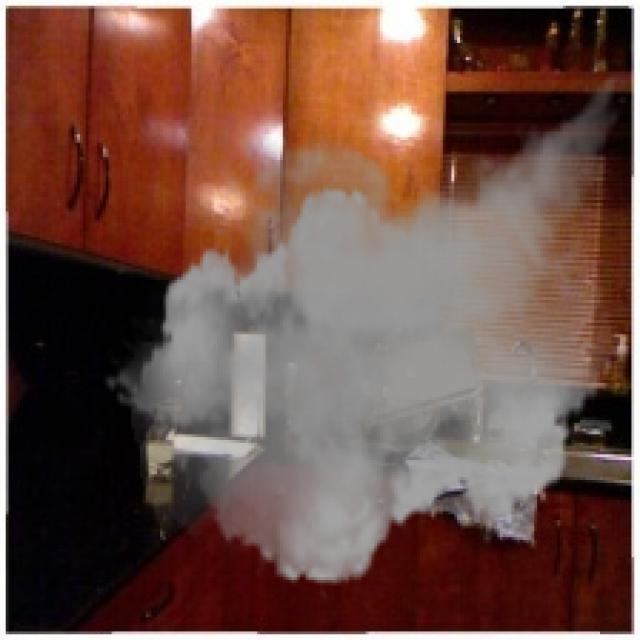Smoke: (103, 45, 632, 600)
